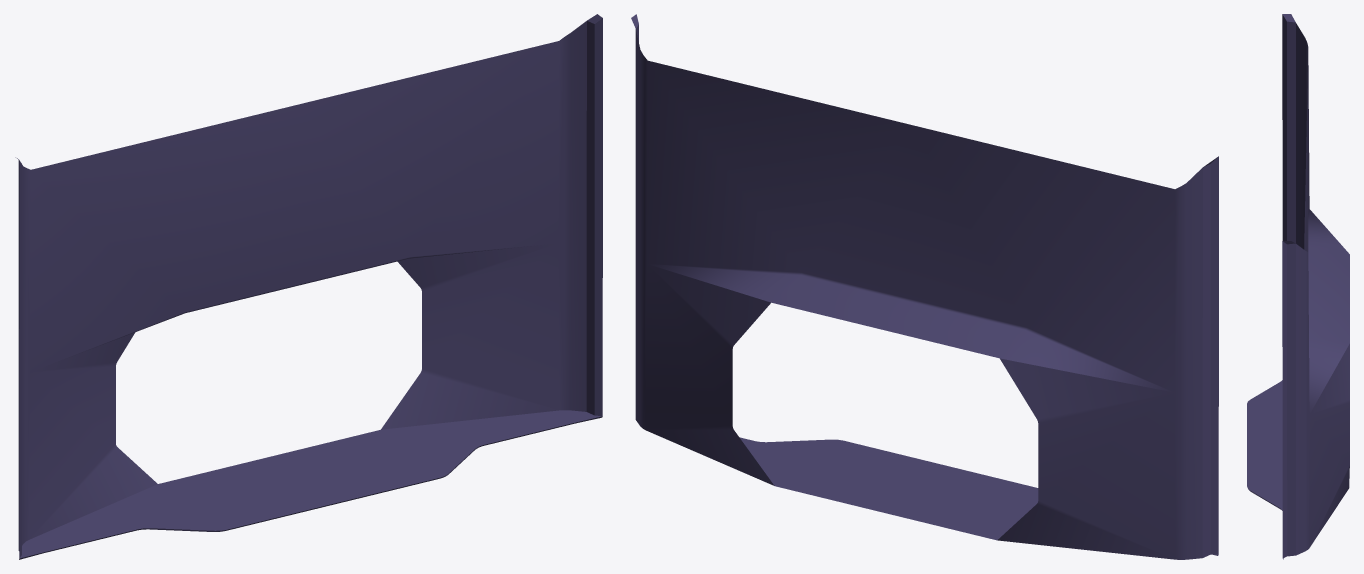
The model's file is Mh_Wall_03.fbx.
3 renders of one model, left to right at view 1: azimuth 30°, elevation 25°; view 2: azimuth 150°, elevation 25°; view 3: azimuth 270°, elevation 25°, orthographic. The views are drawn at different scales.
Visible parts, largest first — view 1: Mh_Wall_03; view 2: Mh_Wall_03; view 3: Mh_Wall_03.
Part boxes in pixels (x1,y1,x2,y2): Mh_Wall_03: (15,14,602,559); Mh_Wall_03: (631,14,1218,559); Mh_Wall_03: (1247,14,1349,559).
Bounding box in the file's own units: 1288 × 844 × 247.
